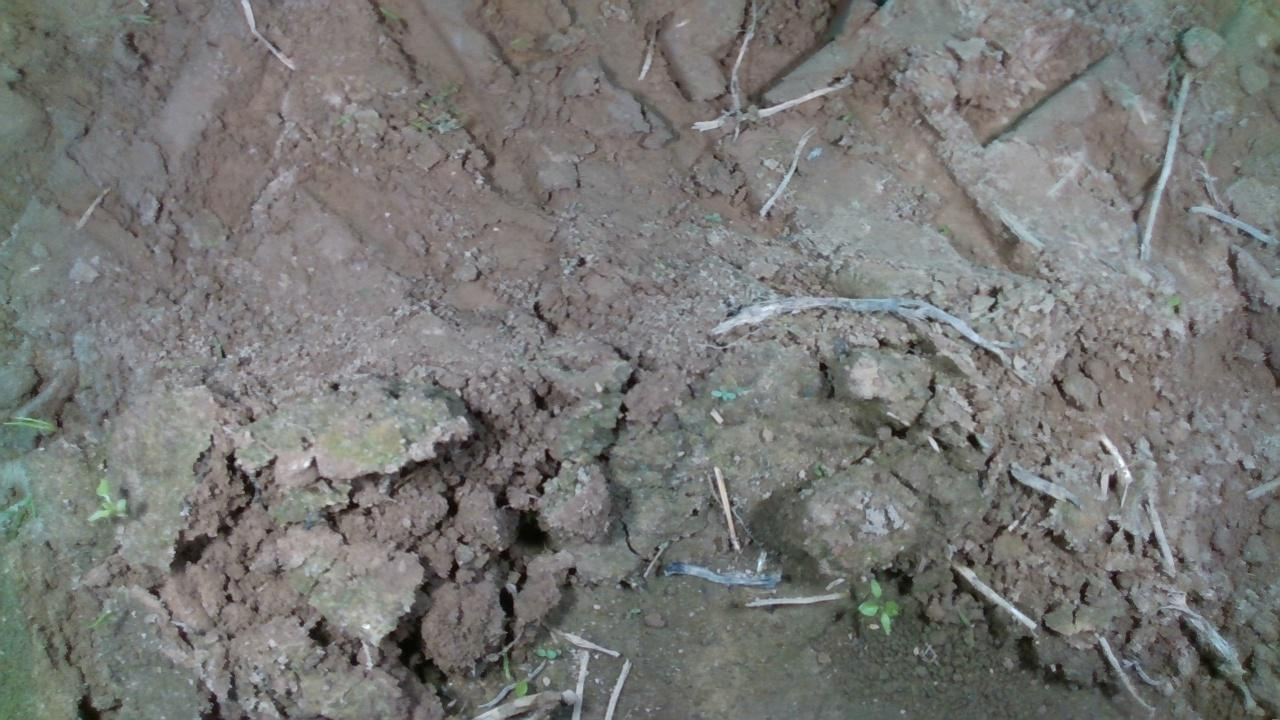weed: (855, 576, 902, 636), (533, 646, 557, 660)
